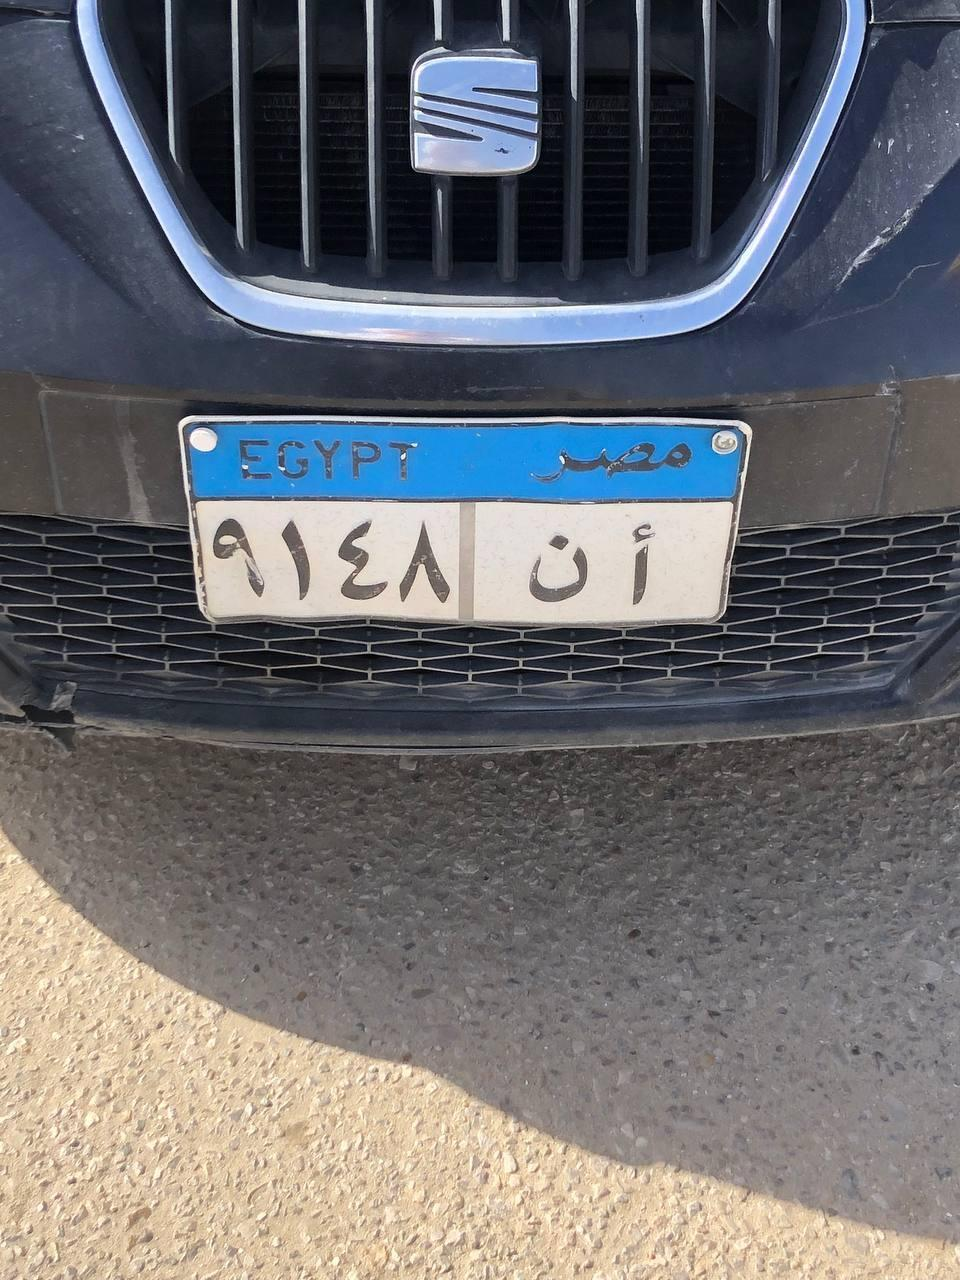1: (273, 508, 313, 612)
4: (330, 508, 384, 598)
8: (395, 520, 462, 606)
9: (198, 514, 270, 611)
License Plate: (176, 411, 753, 632)
Noon: (528, 532, 592, 600)
alef: (616, 498, 658, 602)
